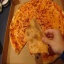pizza: (8, 1, 64, 63)
